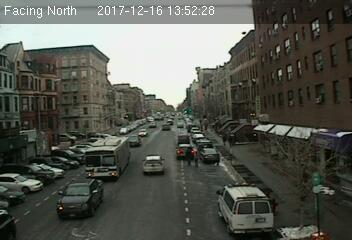bus: (83, 135, 132, 184)
car: (56, 179, 103, 217), (140, 154, 165, 174), (200, 149, 221, 163), (176, 143, 194, 159), (127, 134, 142, 146)
police: (214, 181, 276, 237)
